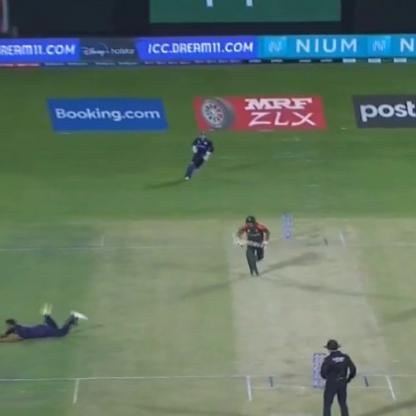pitch: (212, 217, 402, 411)
